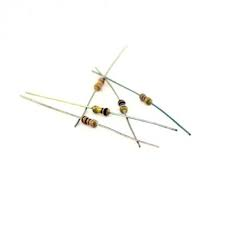resistor: (90, 102, 114, 120), (75, 116, 98, 134), (116, 96, 131, 119), (137, 92, 156, 108)
